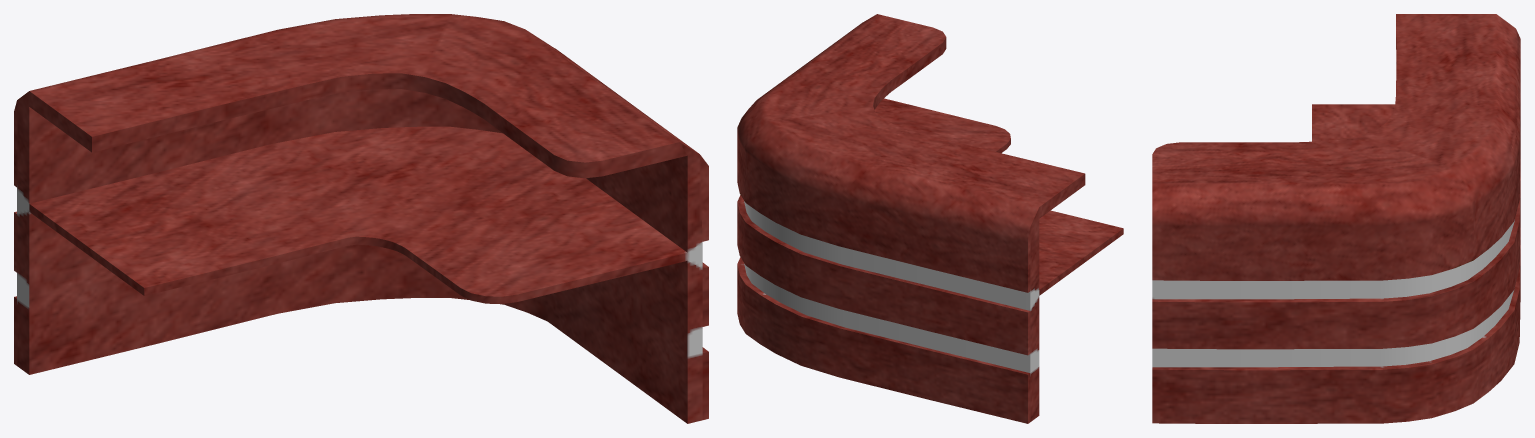
File: ReceptionDesk_Corner_End_Right.glb
3 views of the same model, side by side, from view 1: azimuth 30°, elevation 25°; view 2: azimuth 150°, elevation 25°; view 3: azimuth 270°, elevation 25° (orthographic). The views are drawn at different scales.
Visible parts, largest first — view 1: RightCurveDesk; view 2: RightCurveDesk; view 3: RightCurveDesk.
Part boxes in pixels (x1,y1,x2,y2): RightCurveDesk: (14, 14, 708, 423); RightCurveDesk: (737, 14, 1123, 423); RightCurveDesk: (1152, 14, 1520, 423).
Size of the model in its own units: 1.85 by 1.08 by 1.58.
1 material, 1 textured.
